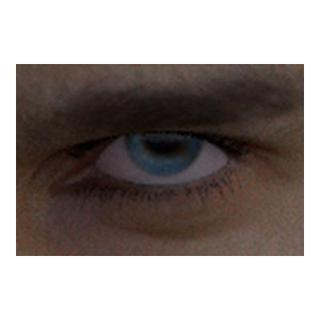pupil: (147, 118, 181, 152)
